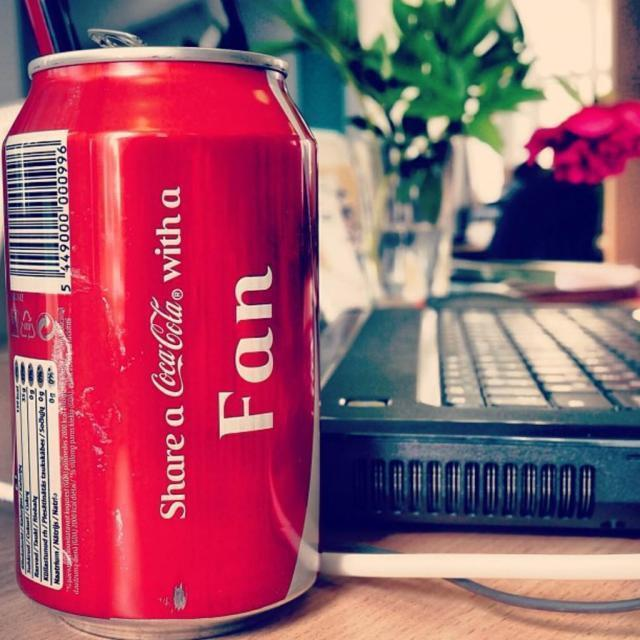metal-can: (0, 40, 330, 640)
